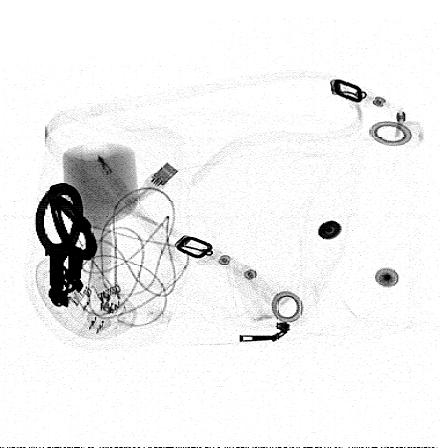HandCuffs: (34, 181, 97, 310)
